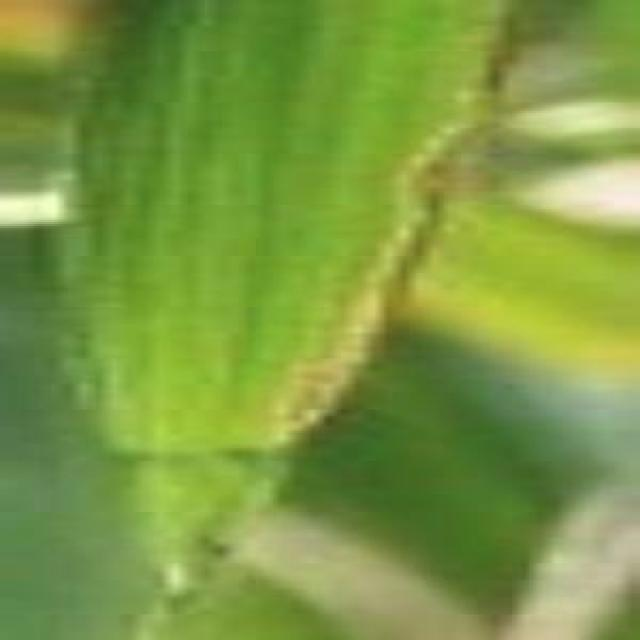Rice_Bacterial_Blight: (77, 4, 500, 587)
